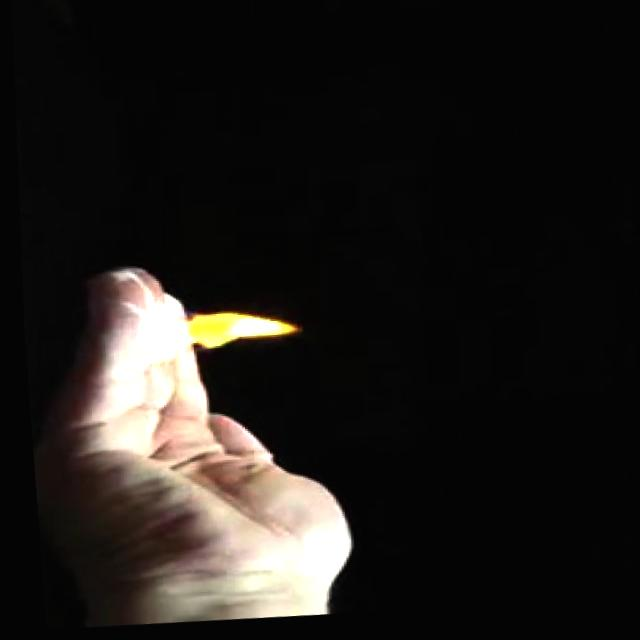Fire: (132, 297, 311, 372)
